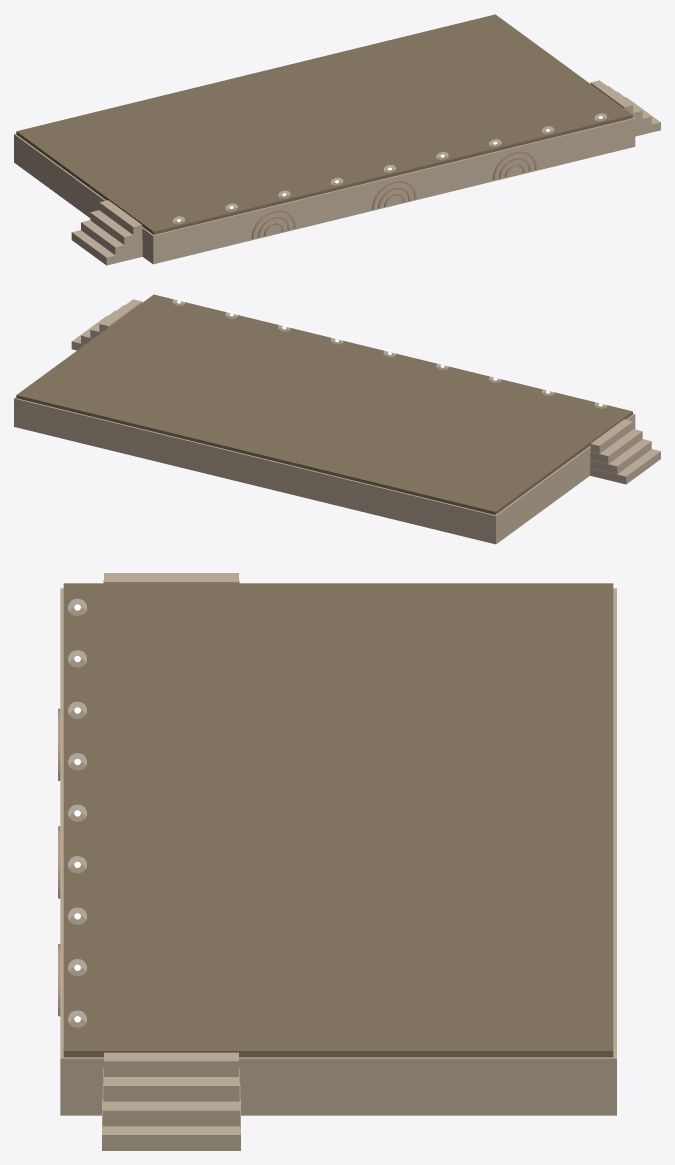
File: city_hall_stage.glb
The picture shows the model from 3 angles, top to bottom: view 1: azimuth 30°, elevation 25°; view 2: azimuth 150°, elevation 25°; view 3: azimuth 270°, elevation 25°; orthographic projection. The views are drawn at different scales.
Visible parts, largest first — view 1: CityHallStage_Floor, CityHallStage_Body, CityHallStage_Step-10, CityHallStage_Step-11, CityHallStage_Step-12, CityHallStage_Step-13, CityHallStage_Step13, CityHallStage_Ripples0.0, CityHallStage_Ripples4.0, CityHallStage_Ripples-4.0; view 2: CityHallStage_Floor, CityHallStage_Body, CityHallStage_Step-10, CityHallStage_Step-11, CityHallStage_Step-12, CityHallStage_Step-13, CityHallStage_Step13; view 3: CityHallStage_Floor, CityHallStage_Body, CityHallStage_Step11, CityHallStage_Step10, CityHallStage_Step12, CityHallStage_Step13, CityHallStage_Step-13.
Boxes of the visible parts, <box> form: CityHallStage_Floor: <box>16,14,632,234</box>; CityHallStage_Body: <box>14,117,635,264</box>; CityHallStage_Step-10: <box>71,230,142,265</box>; CityHallStage_Step-11: <box>81,220,142,255</box>; CityHallStage_Step-12: <box>90,210,142,244</box>; CityHallStage_Step-13: <box>99,200,142,234</box>; CityHallStage_Step13: <box>590,80,633,113</box>; CityHallStage_Ripples0.0: <box>372,180,416,209</box>; CityHallStage_Ripples4.0: <box>492,151,537,180</box>; CityHallStage_Ripples-4.0: <box>251,210,295,238</box>; CityHallStage_Floor: <box>16,294,632,514</box>; CityHallStage_Body: <box>14,397,635,544</box>; CityHallStage_Step-10: <box>590,449,660,484</box>; CityHallStage_Step-11: <box>590,439,651,474</box>; CityHallStage_Step-12: <box>590,429,642,463</box>; CityHallStage_Step-13: <box>590,419,633,453</box>; CityHallStage_Step13: <box>99,299,142,332</box>; CityHallStage_Floor: <box>63,583,613,1057</box>; CityHallStage_Body: <box>60,588,616,1115</box>; CityHallStage_Step11: <box>102,1084,240,1126</box>; CityHallStage_Step10: <box>102,1099,240,1150</box>; CityHallStage_Step12: <box>103,1068,239,1101</box>; CityHallStage_Step13: <box>104,1052,238,1076</box>; CityHallStage_Step-13: <box>104,573,238,583</box>.
Bounding box in the file's own units: 18.4 × 1.17 × 8.03.
